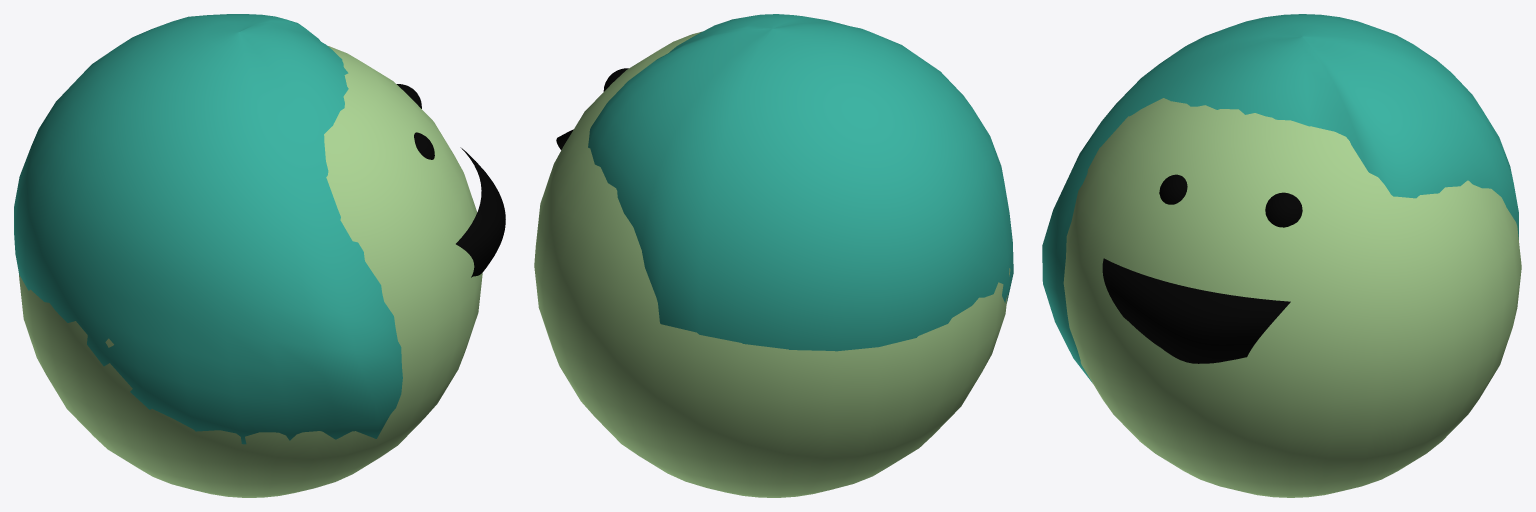
Rendered from avatar.glb.
3 views of the same model, side by side, from view 1: azimuth 30°, elevation 25°; view 2: azimuth 150°, elevation 25°; view 3: azimuth 270°, elevation 25° (orthographic). The views are drawn at different scales.
Parts seen in each view (by area): view 1: SurfSphere.001, Sphere, SurfPatch; view 2: SurfSphere.001, Sphere; view 3: Sphere, SurfSphere.001, SurfPatch, Sphere.002, Sphere.001.
Boxes of the visible parts, x1,y1,x2,y2 form: SurfSphere.001: [14, 14, 402, 444]; Sphere: [19, 46, 482, 497]; SurfPatch: [456, 147, 505, 277]; SurfSphere.001: [588, 14, 1013, 351]; Sphere: [534, 31, 1010, 497]; Sphere: [1063, 98, 1521, 497]; SurfSphere.001: [1042, 14, 1518, 383]; SurfPatch: [1102, 258, 1290, 363]; Sphere.002: [1265, 192, 1302, 227]; Sphere.001: [1159, 174, 1187, 204].
Size of the model in its own units: 2.09 by 2.09 by 2.08.
